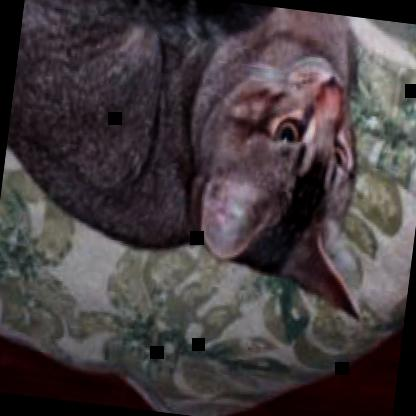cat: (0, 0, 400, 322)
